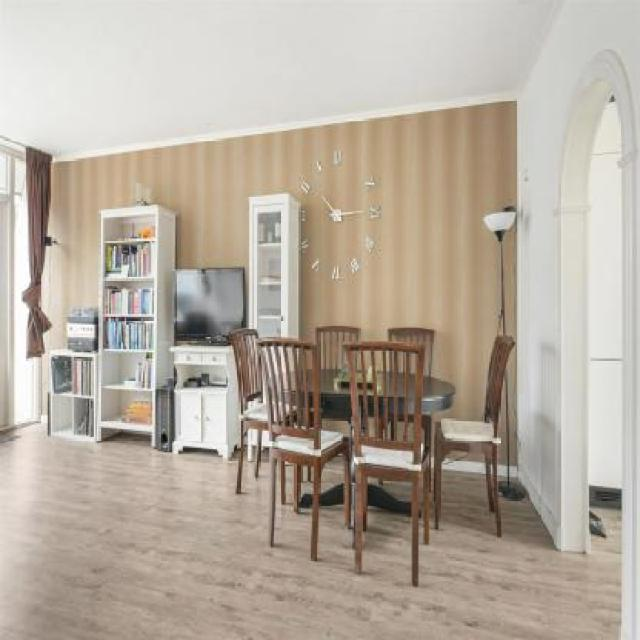floor: (0, 424, 621, 640)
